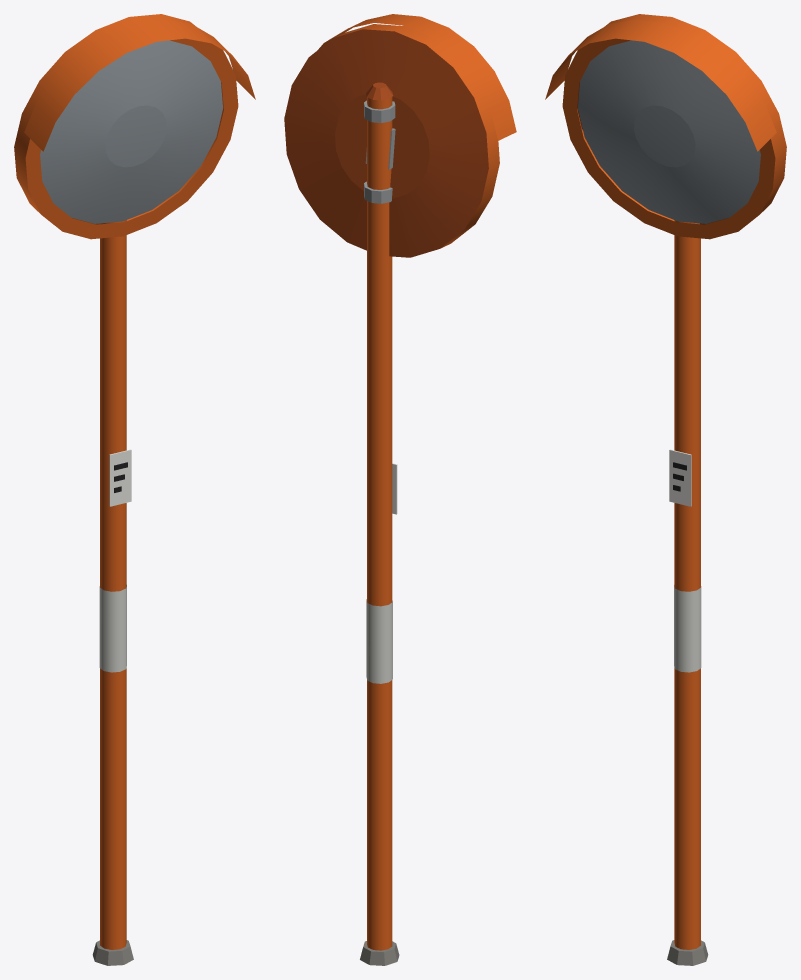
The model's file is curve_mirror.glb.
3 renders of one model, left to right at view 1: azimuth 30°, elevation 25°; view 2: azimuth 150°, elevation 25°; view 3: azimuth 330°, elevation 25°, orthographic. The views are drawn at different scales.
Parts seen in each view (by area): view 1: mirror_head, pole; view 2: mirror_head, pole; view 3: mirror_head, pole.
Part boxes in pixels (<box>): mirror_head: <box>14,14,255,239</box>; pole: <box>92,220,133,965</box>; mirror_head: <box>284,14,516,257</box>; pole: <box>360,82,399,965</box>; mirror_head: <box>545,14,786,239</box>; pole: <box>667,220,708,965</box>.
Size of the model in its own units: 0.69 by 2.95 by 0.3029.
